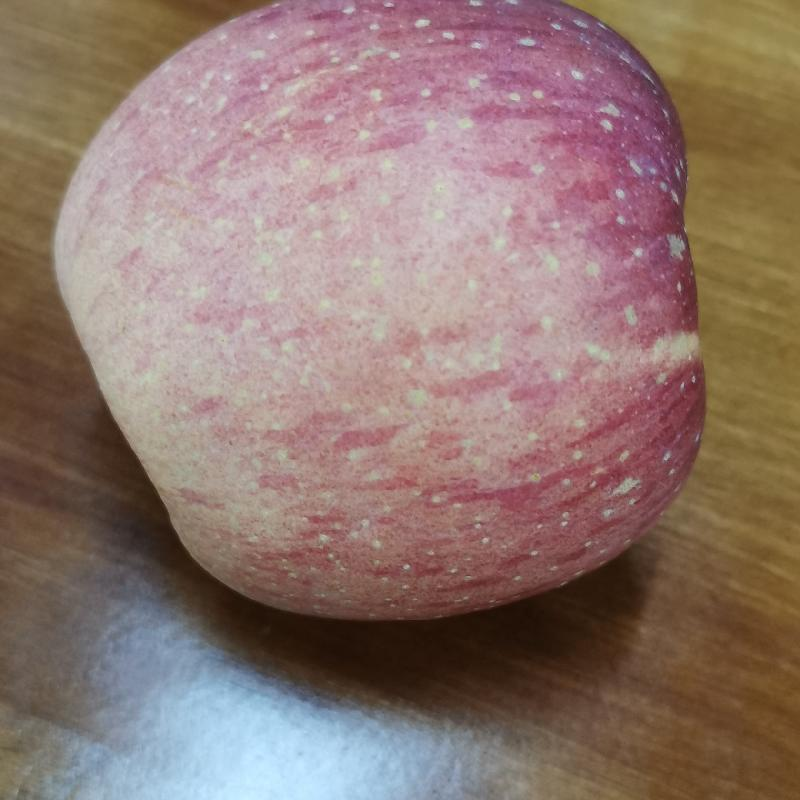apples: (36, 1, 708, 622)
